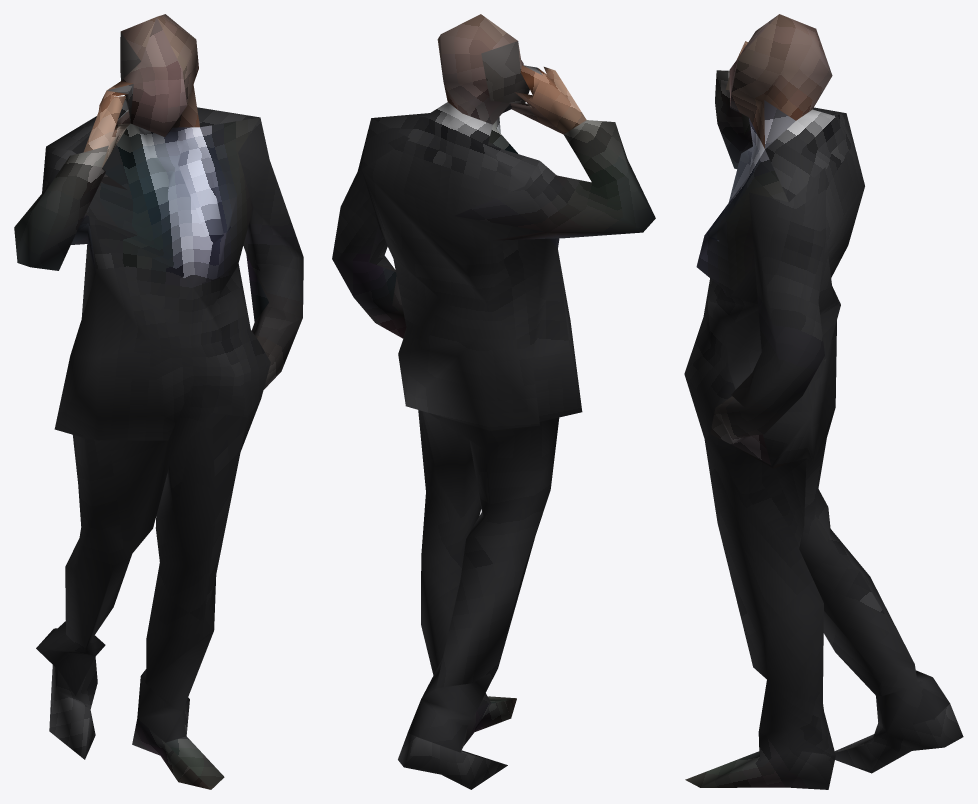
3 renders of one model, left to right at view 1: azimuth 30°, elevation 25°; view 2: azimuth 150°, elevation 25°; view 3: azimuth 270°, elevation 25°, orthographic. The views are drawn at different scales.
Parts seen in each view (by area): view 1: Mesh1_Material_1_0; view 2: Mesh1_Material_1_0; view 3: Mesh1_Material_1_0.
Boxes of the visible parts, left/top/right/bottom form: Mesh1_Material_1_0: left=14, top=14, right=303, bottom=789; Mesh1_Material_1_0: left=332, top=14, right=655, bottom=789; Mesh1_Material_1_0: left=684, top=14, right=963, bottom=789.
Bounding box in the file's own units: 0.764 × 1.81 × 0.5968.
1 material, 1 textured.
